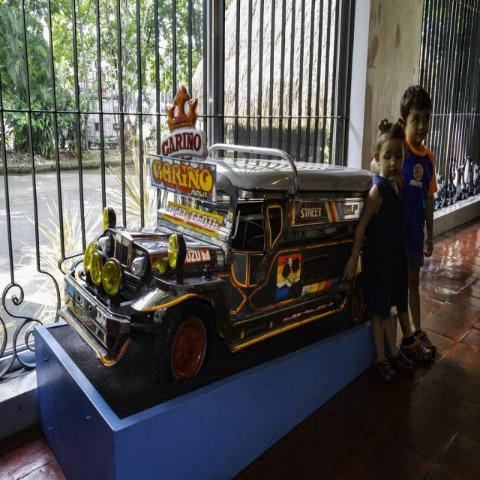jeepney: (63, 76, 380, 376)
